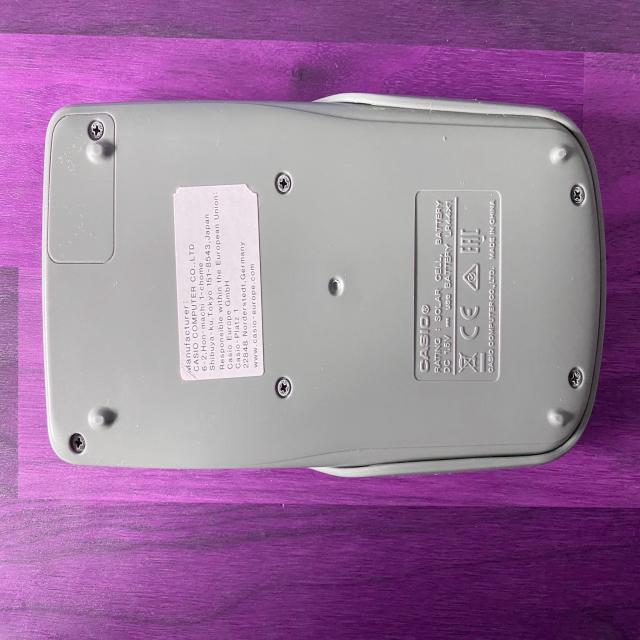PhillipsScrewHead: (276, 378, 291, 398), (72, 432, 85, 454), (89, 120, 103, 140), (571, 185, 584, 205), (568, 370, 582, 388), (277, 174, 290, 193)
